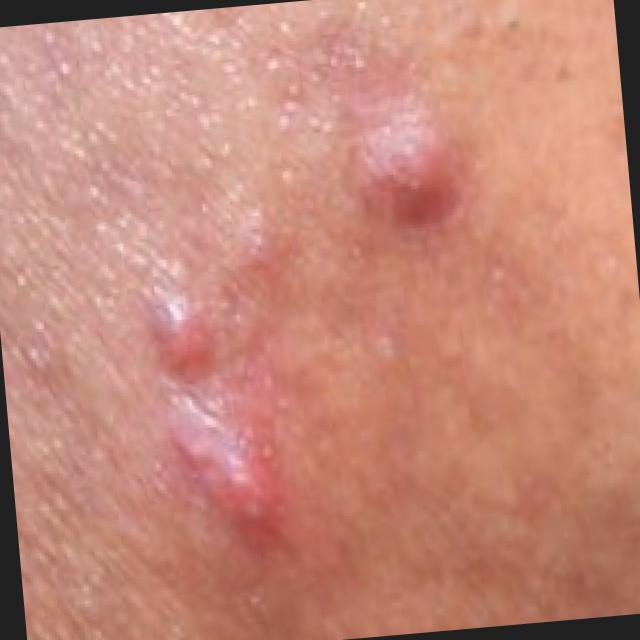nodule: (352, 120, 458, 228), (208, 452, 286, 546), (147, 291, 222, 384)
